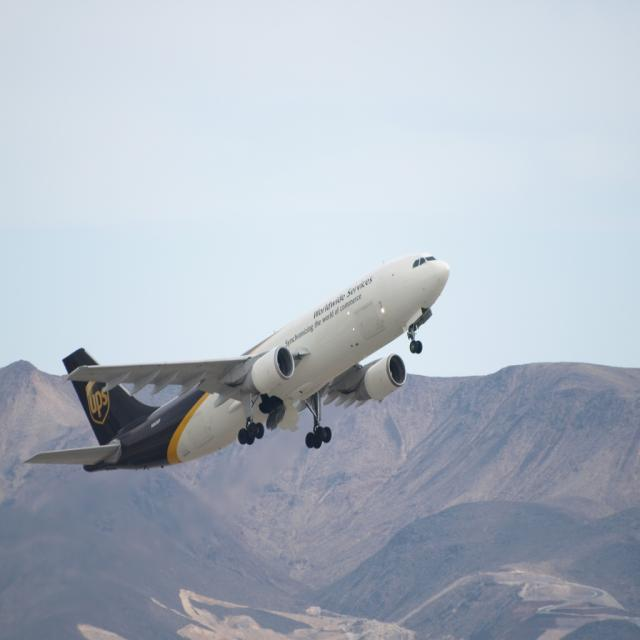ups: (86, 382, 112, 424)
